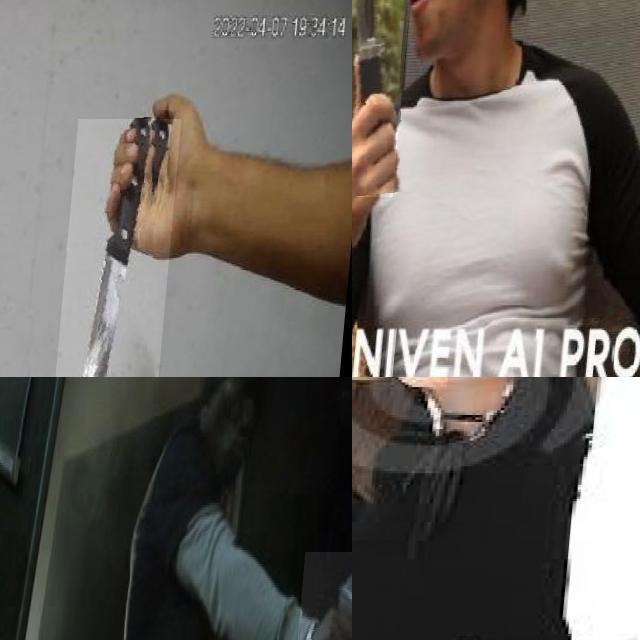-: (53, 118, 183, 377), (352, 0, 426, 196)
gun-knife-thesis - v11 Yolov5 augmented: (405, 377, 497, 441)
